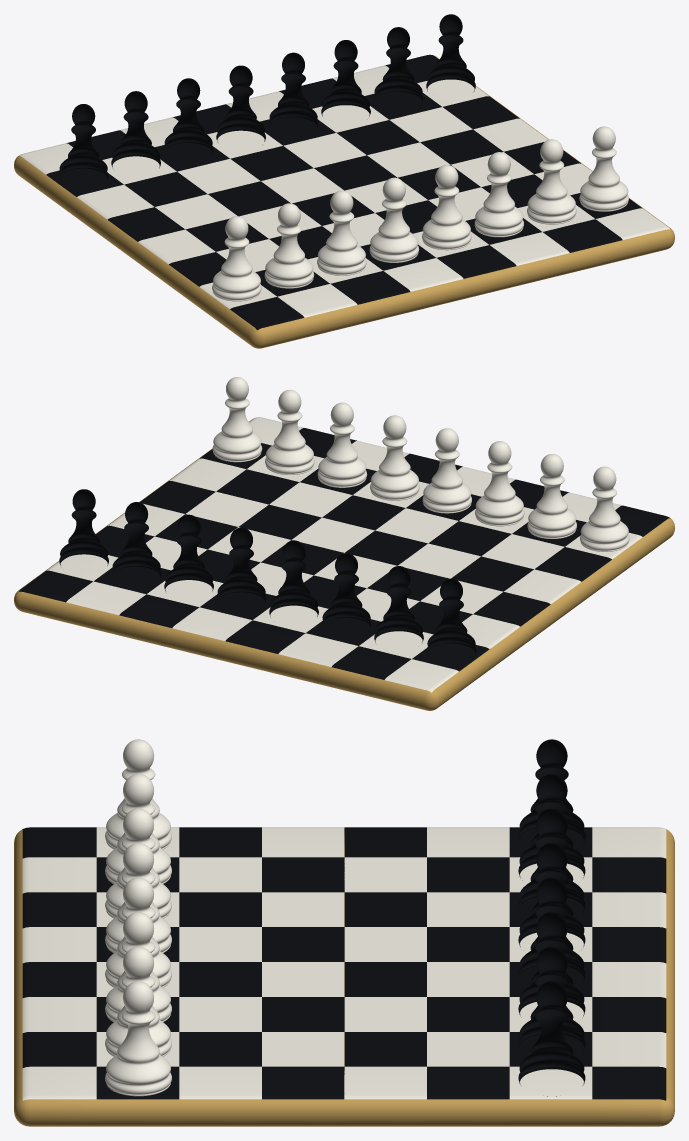
File: chess.glb
The picture shows the model from 3 angles, top to bottom: view 1: azimuth 30°, elevation 25°; view 2: azimuth 150°, elevation 25°; view 3: azimuth 270°, elevation 25°; orthographic projection. The views are drawn at different scales.
Parts seen in each view (by area): view 1: Chess Board, Pawn Line 2, Pawn Line 1; view 2: Chess Board, Pawn Line 2, Pawn Line 1; view 3: Chess Board, Pawn Line 2, Pawn Line 1.
Part boxes in pixels (bbox=[...]): Chess Board: bbox=[14, 54, 674, 348]; Pawn Line 2: bbox=[212, 126, 628, 301]; Pawn Line 1: bbox=[59, 14, 475, 185]; Chess Board: bbox=[14, 417, 674, 710]; Pawn Line 2: bbox=[212, 377, 629, 551]; Pawn Line 1: bbox=[59, 489, 476, 660]; Chess Board: bbox=[14, 827, 674, 1126]; Pawn Line 2: bbox=[105, 739, 171, 1096]; Pawn Line 1: bbox=[518, 739, 585, 1096].
Size of the model in its own units: 2 by 0.434 by 2.
